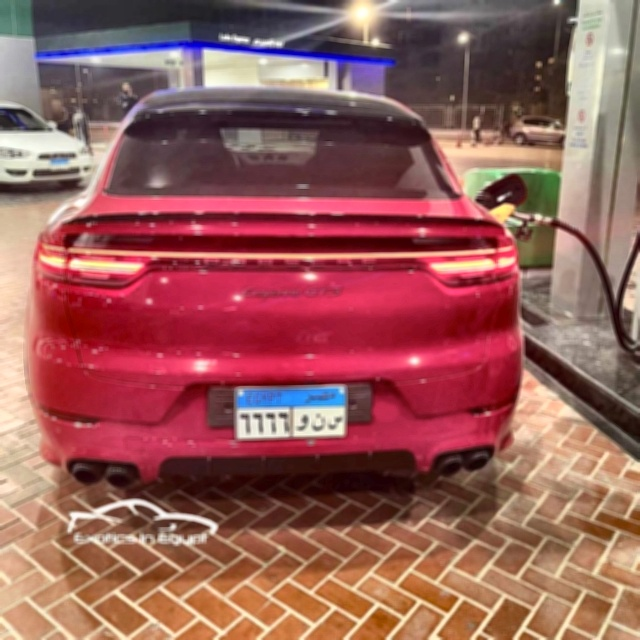License Plate: (231, 384, 348, 442)
